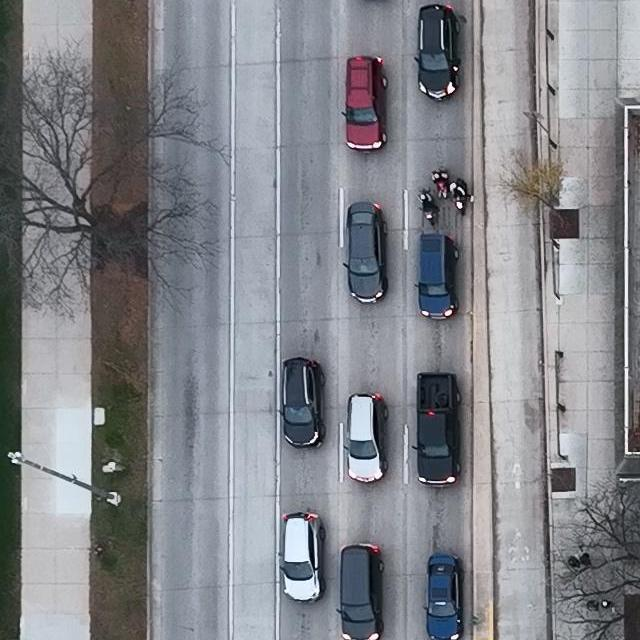car: (411, 372, 463, 487), (343, 202, 390, 305), (340, 56, 388, 153), (414, 3, 461, 102), (337, 542, 384, 640), (277, 358, 325, 449), (342, 392, 389, 484), (279, 512, 326, 602), (412, 234, 459, 319), (423, 552, 465, 640)
